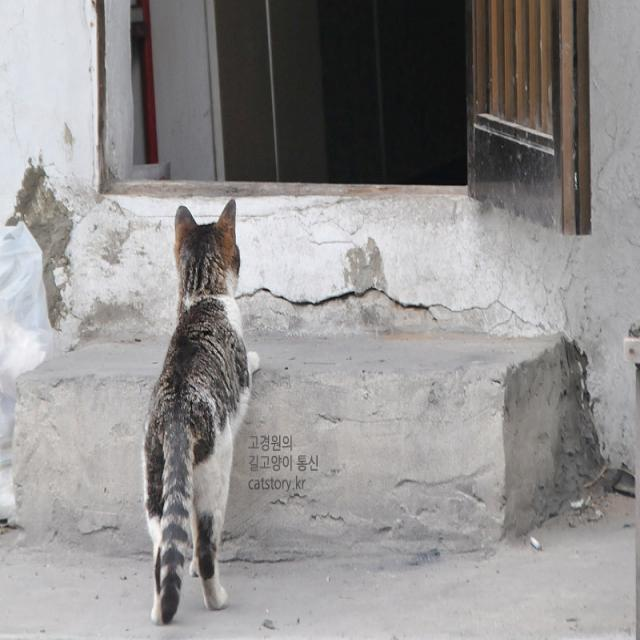cat: (134, 180, 251, 628)
